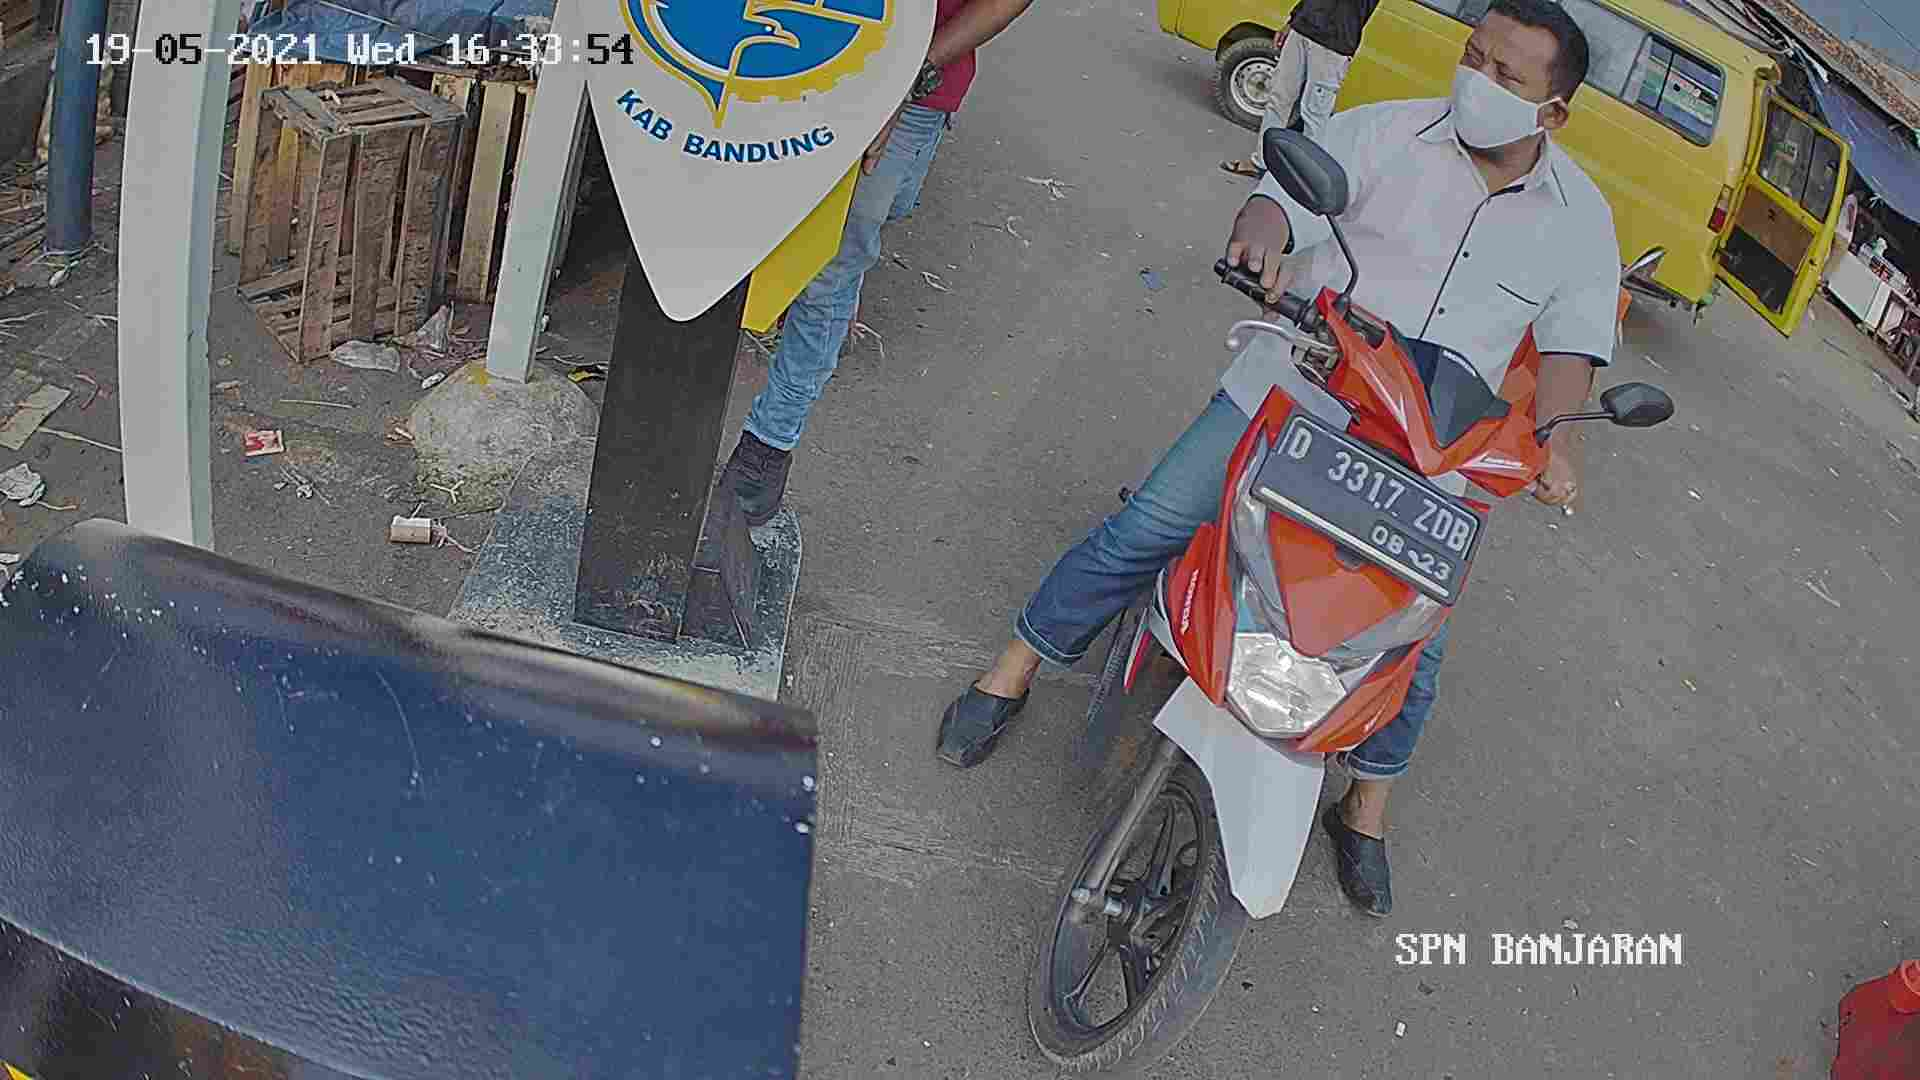motor: (1051, 223, 1503, 1080)
